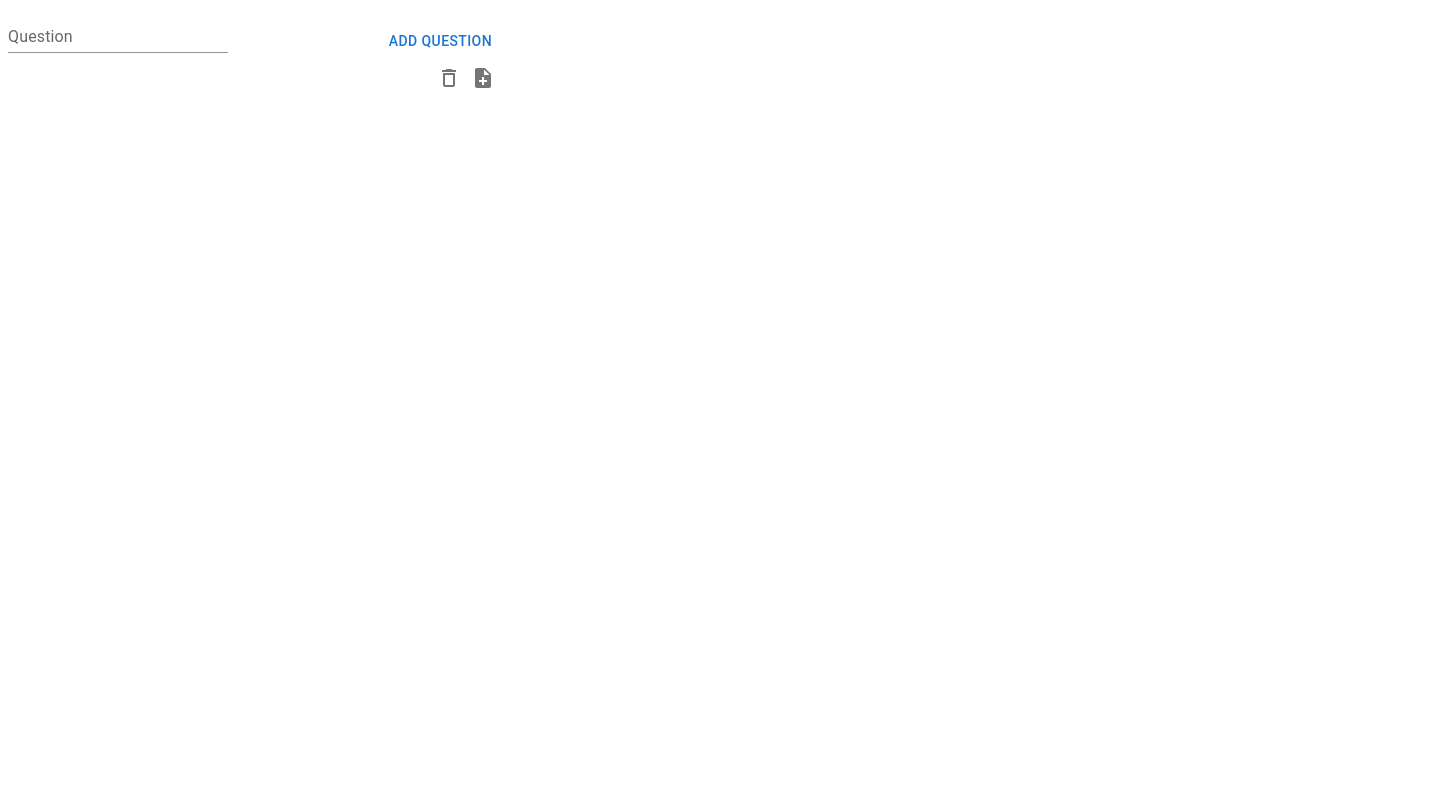
Test: login form tests › show modal window
The image size is (1440, 810).
Click the button with test id "openButton0" at (483, 78), box x1=466 y1=61 x2=500 y2=95
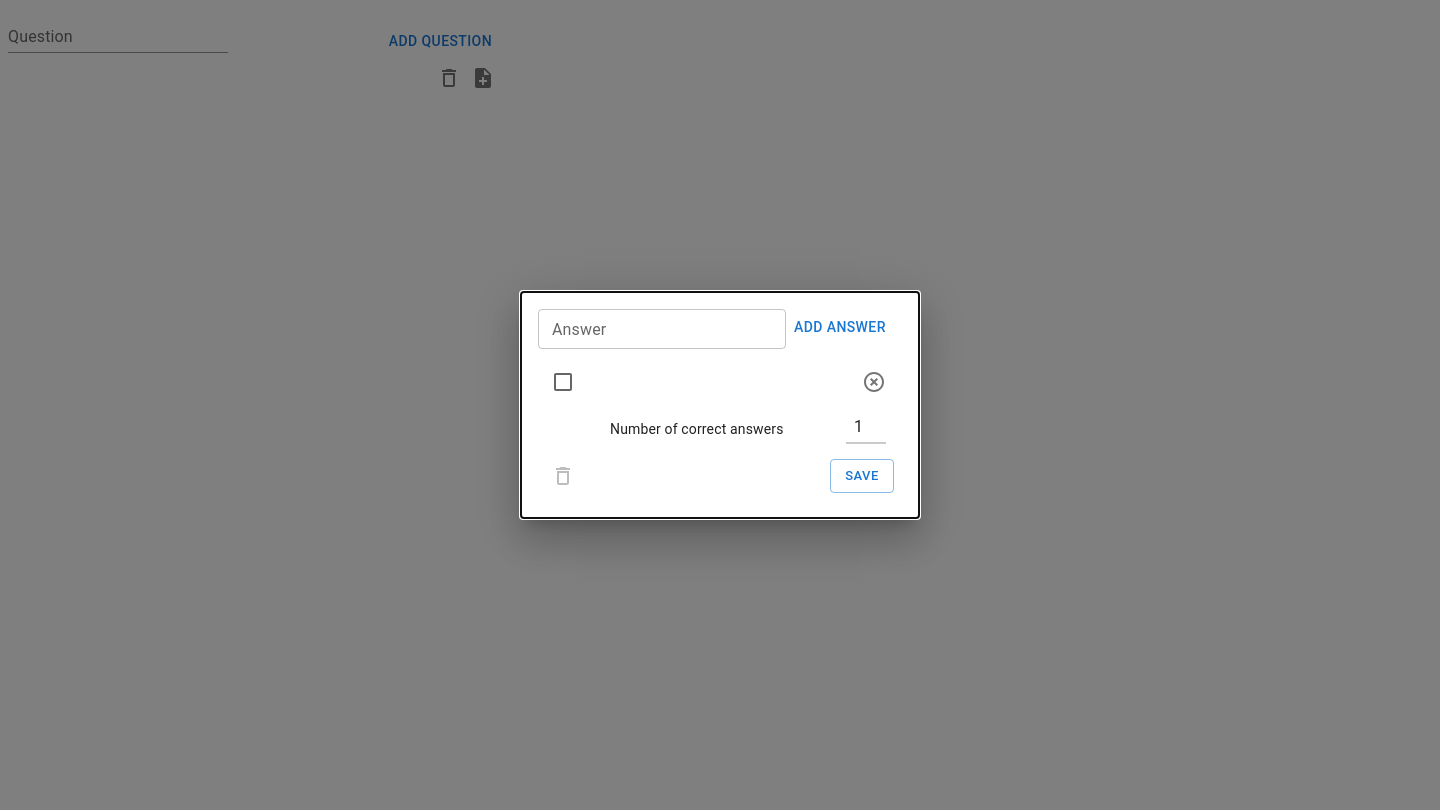
Expected: the button "Add answer" is shown, x1=786 y1=309 x2=894 y2=346
